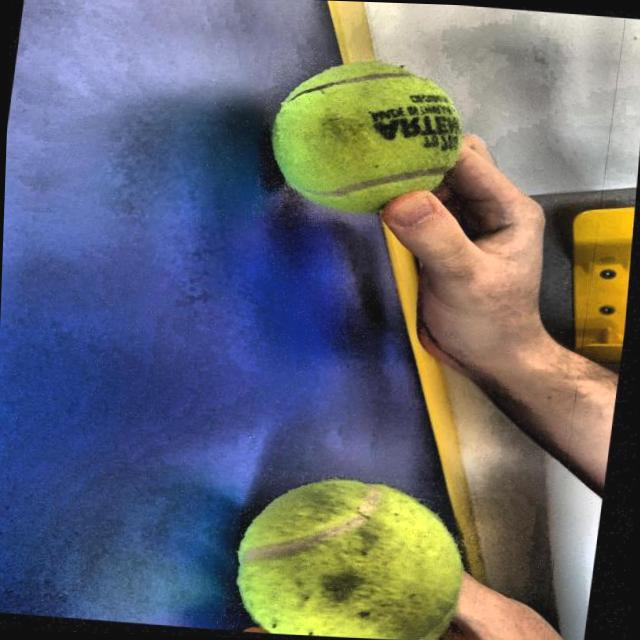Tennis Ball: (223, 467, 486, 640), (252, 49, 472, 234)
